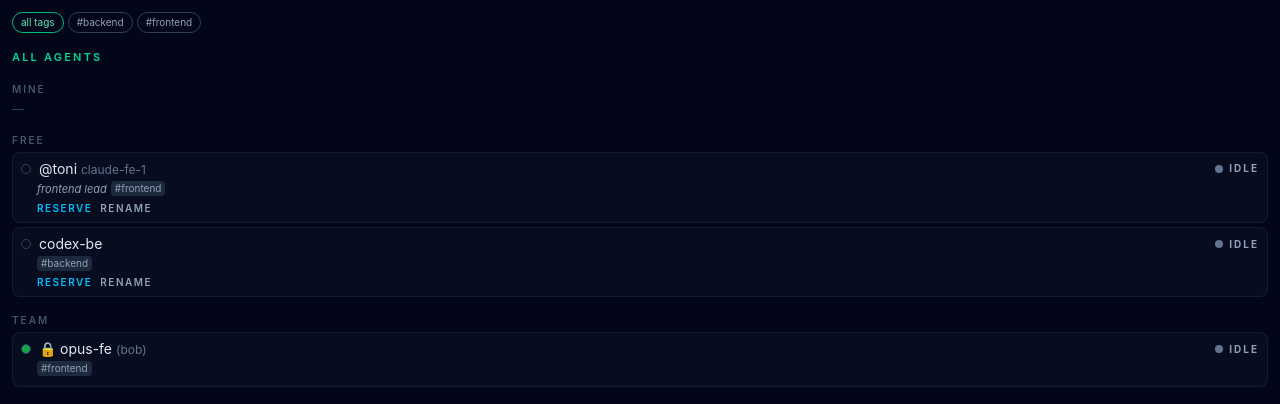
it: Roster › shows alias, persona and tags; filters by tag; offers Rename where you may act
Expected: the button "@toni claude-fe-1" is shown, [39,158,1207,178]
Expected: the text "frontend lead" is shown, [37,180,107,197]
Click the button "Rename" below "frontend lead" at (126, 208), box [100,201,152,216]
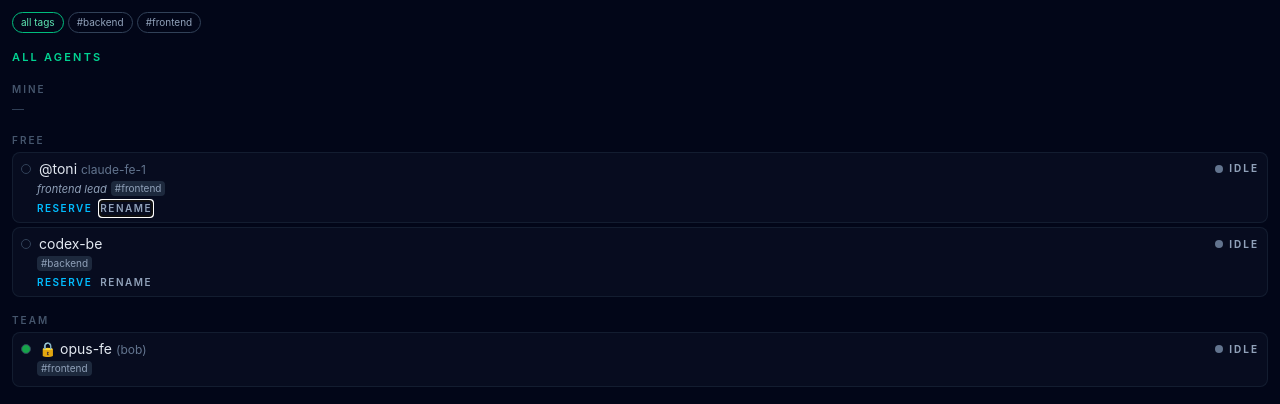
Click the button "#backend" at (100, 22), box [68,12,133,33]
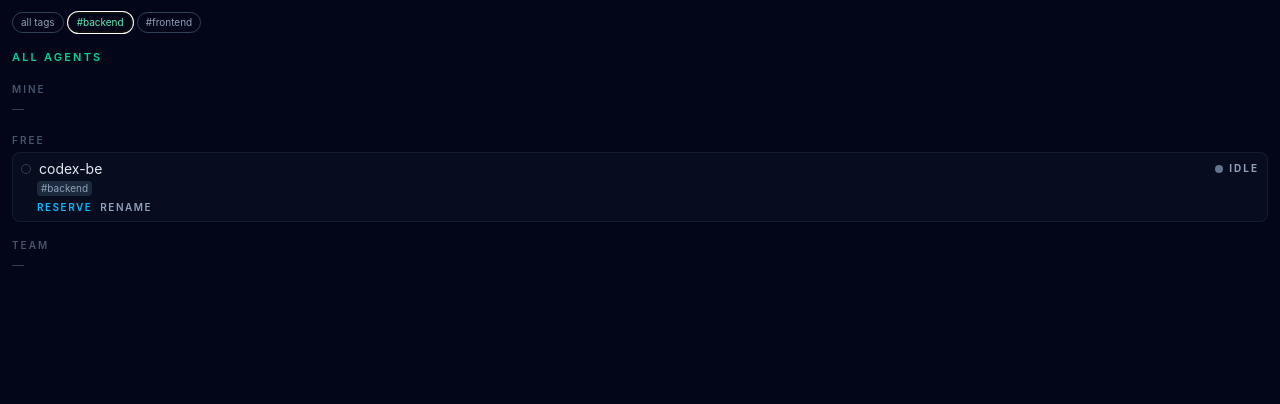
Expected: the list item with test id "roster-codex-be" is shown, [12,152,1268,222]
Result: the list item with test id "roster-claude-fe-1" is gone
Click the button "all tags" at (38, 22), box [12,12,64,33]
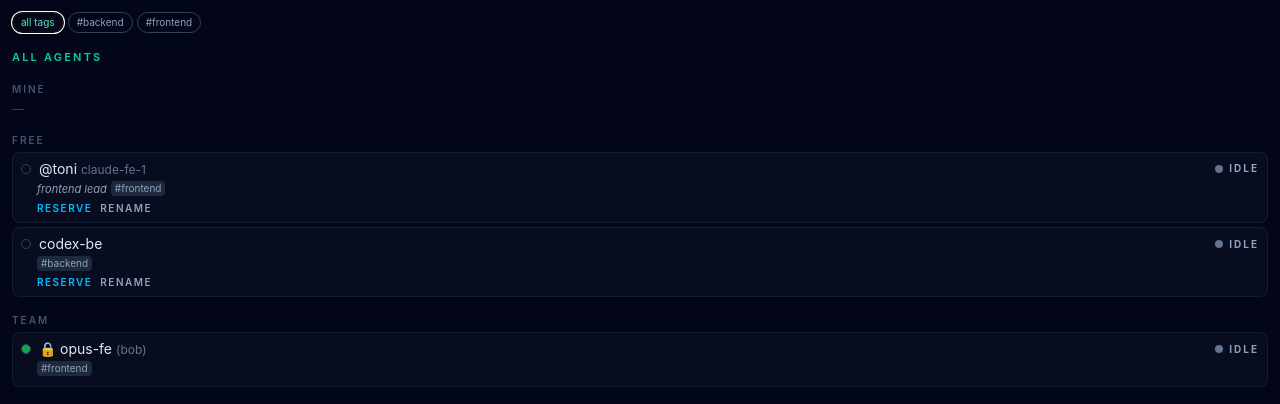
Result: the list item with test id "roster-claude-fe-1" is shown at [12,152,1268,223]
